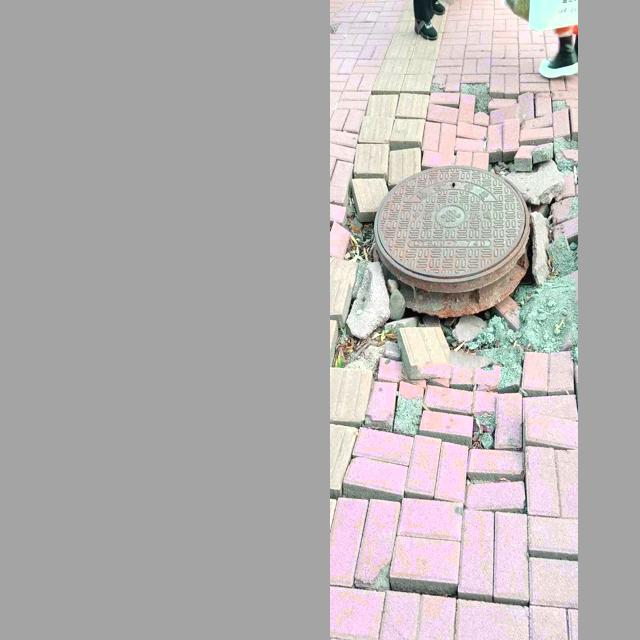circle: (335, 100, 575, 458)
